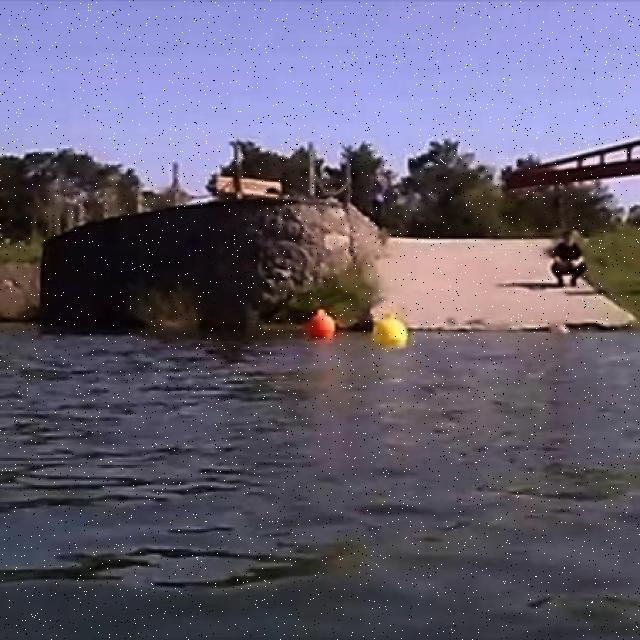buoy: (372, 312, 407, 351), (306, 309, 336, 340)
